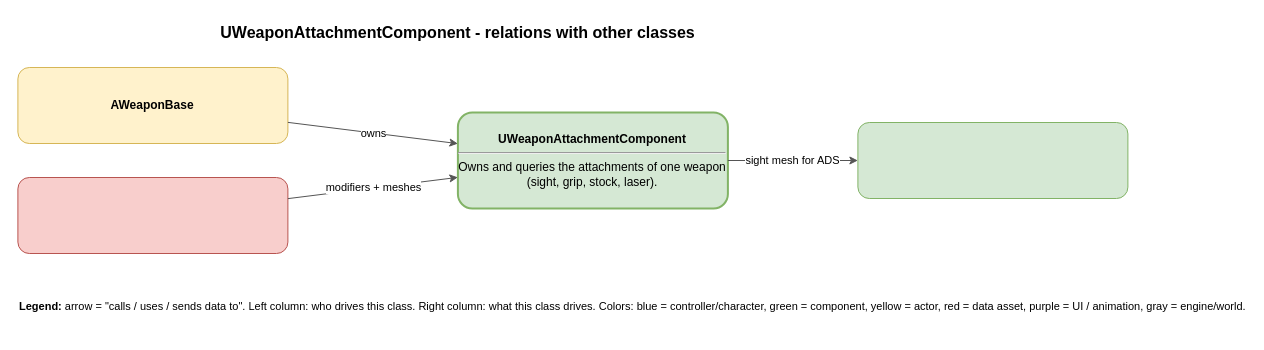
Some shapes in this 1264 by 350 pixel diagram are drawn without their labels. The centre of each missing label's shape, as x and y in pixels:
"UAttachmentData" goes at (152,215).
"UViewModelComponent" goes at (992,160).
